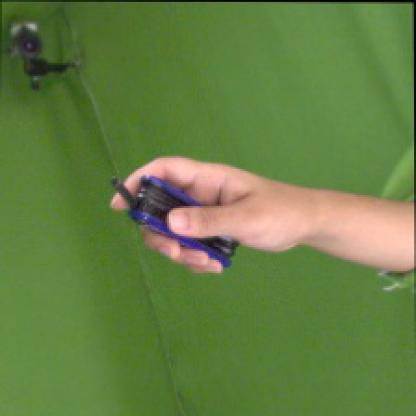Hand: (111, 155, 306, 275)
